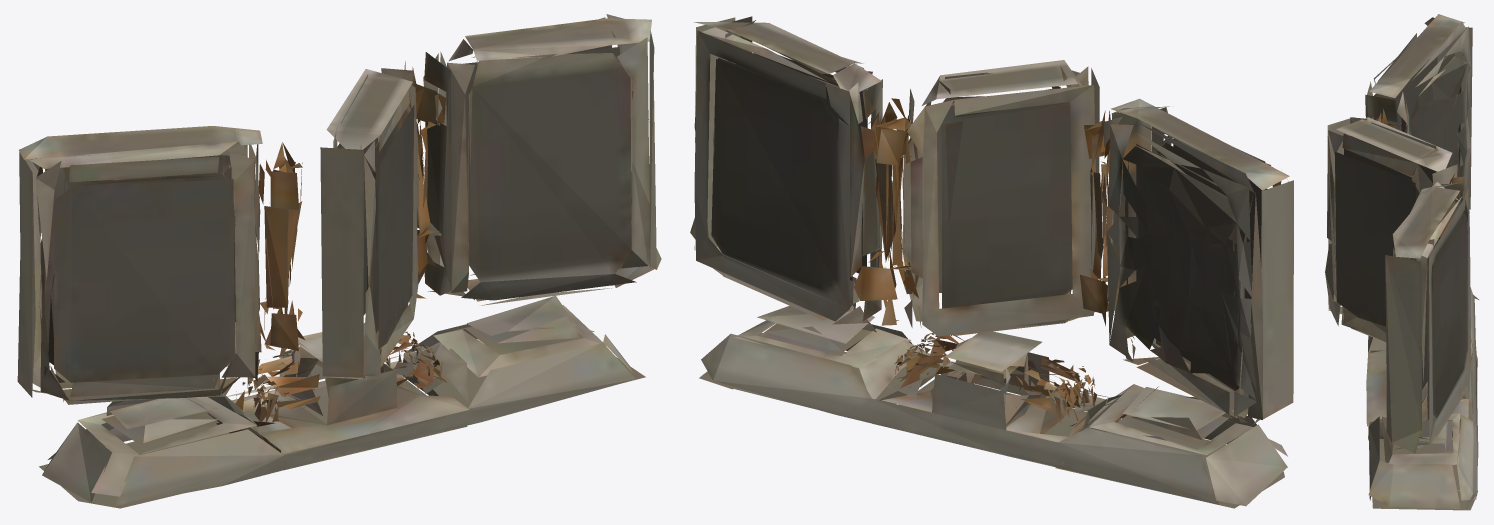
Rendered from radiateur-pliable-bas.glb.
The picture shows the model from 3 angles, left to right: view 1: azimuth 30°, elevation 25°; view 2: azimuth 150°, elevation 25°; view 3: azimuth 270°, elevation 25°; orthographic projection. The views are drawn at different scales.
Visible parts, largest first — view 1: radiateur-pliable-v2-bas; view 2: radiateur-pliable-v2-bas; view 3: radiateur-pliable-v2-bas.
Boxes of the visible parts, <box> form: radiateur-pliable-v2-bas: <box>17,14,661,508</box>; radiateur-pliable-v2-bas: <box>690,16,1293,508</box>; radiateur-pliable-v2-bas: <box>1325,14,1478,510</box>.
Size of the model in its own units: 5 by 2.6 by 1.33.
Materials: 1 (1 with a texture image).
